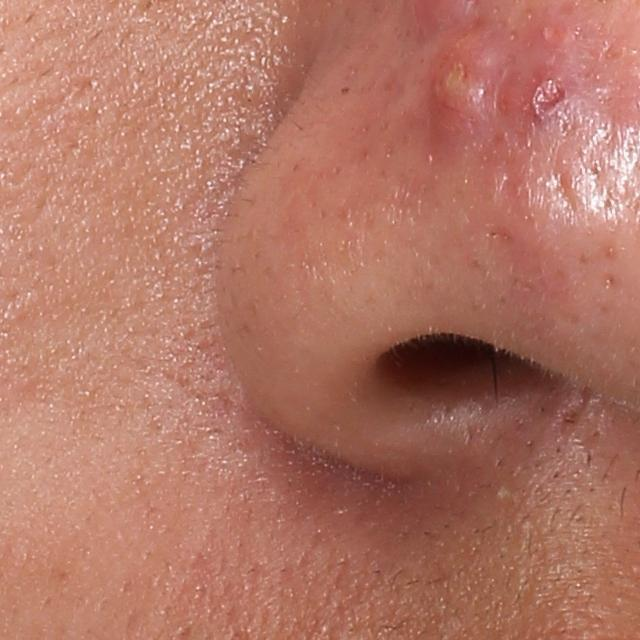papule: (431, 20, 513, 144), (512, 68, 591, 138)
